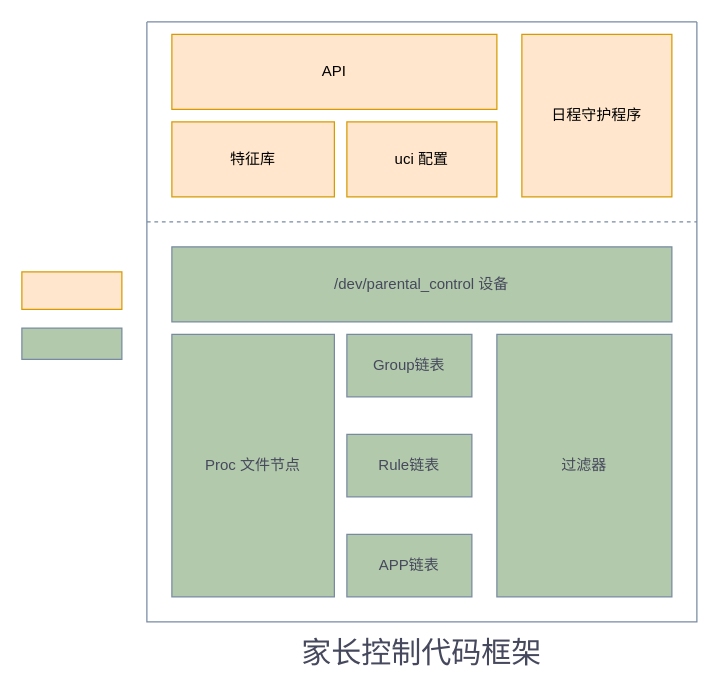
Some shapes in this 720 by 694 pixel diagram are drawn without their labels. Here are the shapes that lost their labels. From the top down, the centre of each, then its label:
At (71,290): "应用层".
At (71,343): "内核层".
